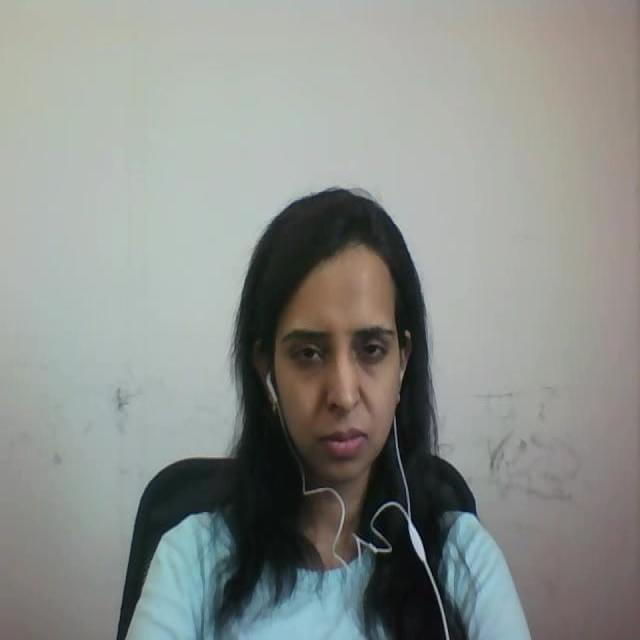Engaged: (226, 162, 454, 508)
